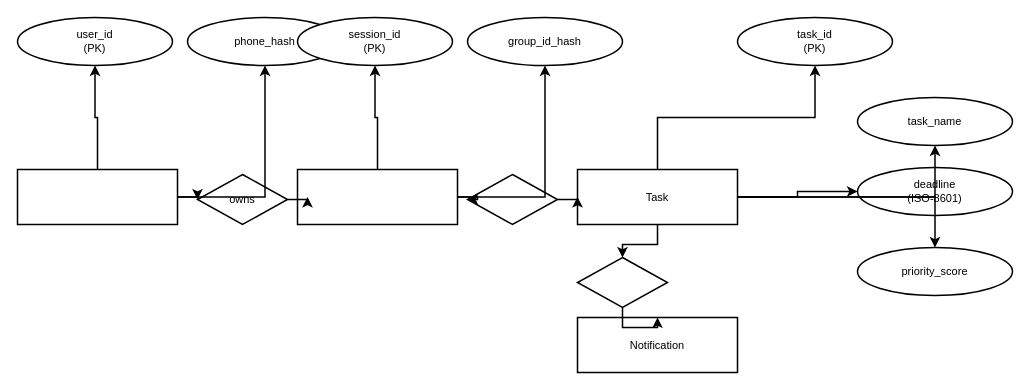
Image size: 1031x391. Some labels were removed from this diagram. Here are the shapes that lost their labels. From the top down, the centre of each, then its label:
pixel 97 196: User
pixel 377 196: Session
pixel 512 199: generates
pixel 622 282: triggers
